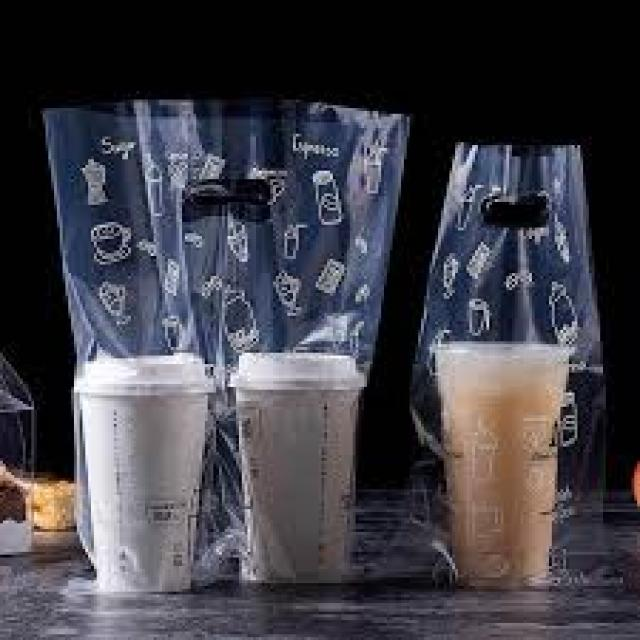bottle: (435, 342, 569, 584), (75, 381, 212, 592), (238, 389, 360, 582)
